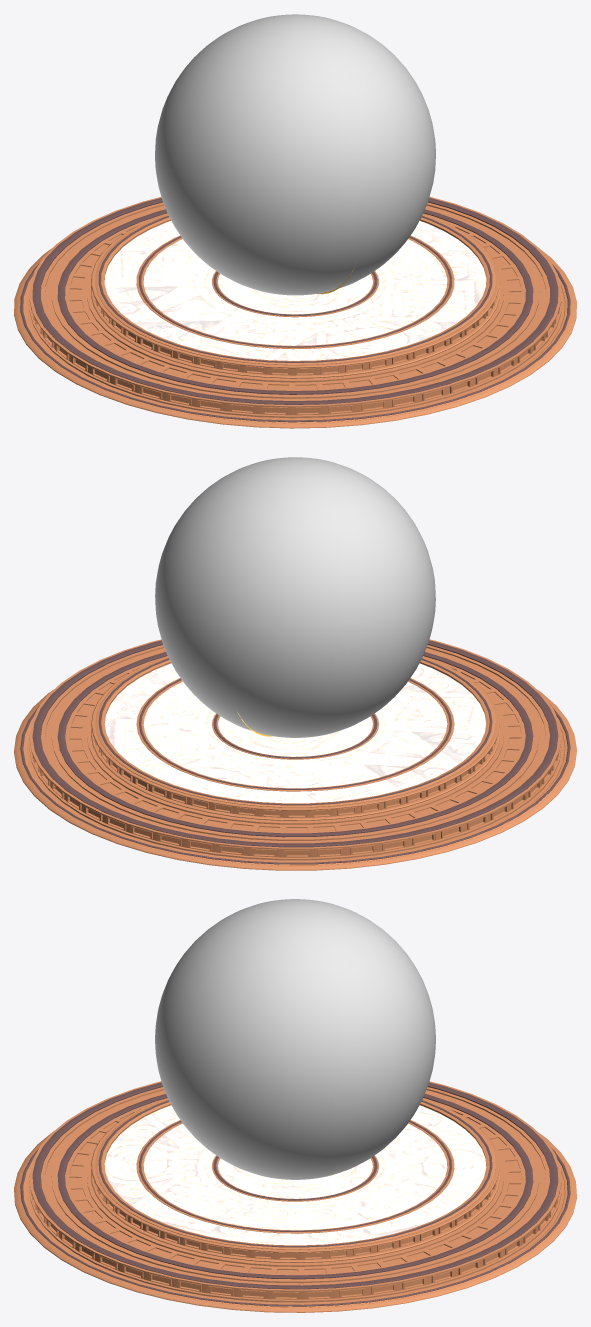
Rendered from Talisman.fbx.
The picture shows the model from 3 angles, top to bottom: view 1: azimuth 30°, elevation 25°; view 2: azimuth 150°, elevation 25°; view 3: azimuth 270°, elevation 25°; orthographic projection.
Parts seen in each view (by area): view 1: Sphere, Podium, Circle.001; view 2: Sphere, Podium, Circle.001; view 3: Sphere, Podium, Circle.001.
Part boxes in pixels (x1,y1,x2,y2): Sphere: (155,14,435,295); Podium: (14,197,576,428); Circle.001: (104,220,486,360); Sphere: (155,457,435,737); Podium: (14,639,576,870); Circle.001: (104,663,486,803); Sphere: (155,899,435,1179); Podium: (14,1081,576,1312); Circle.001: (104,1105,486,1245).
Bounding box in the file's own units: 1830 × 1011 × 1830.
